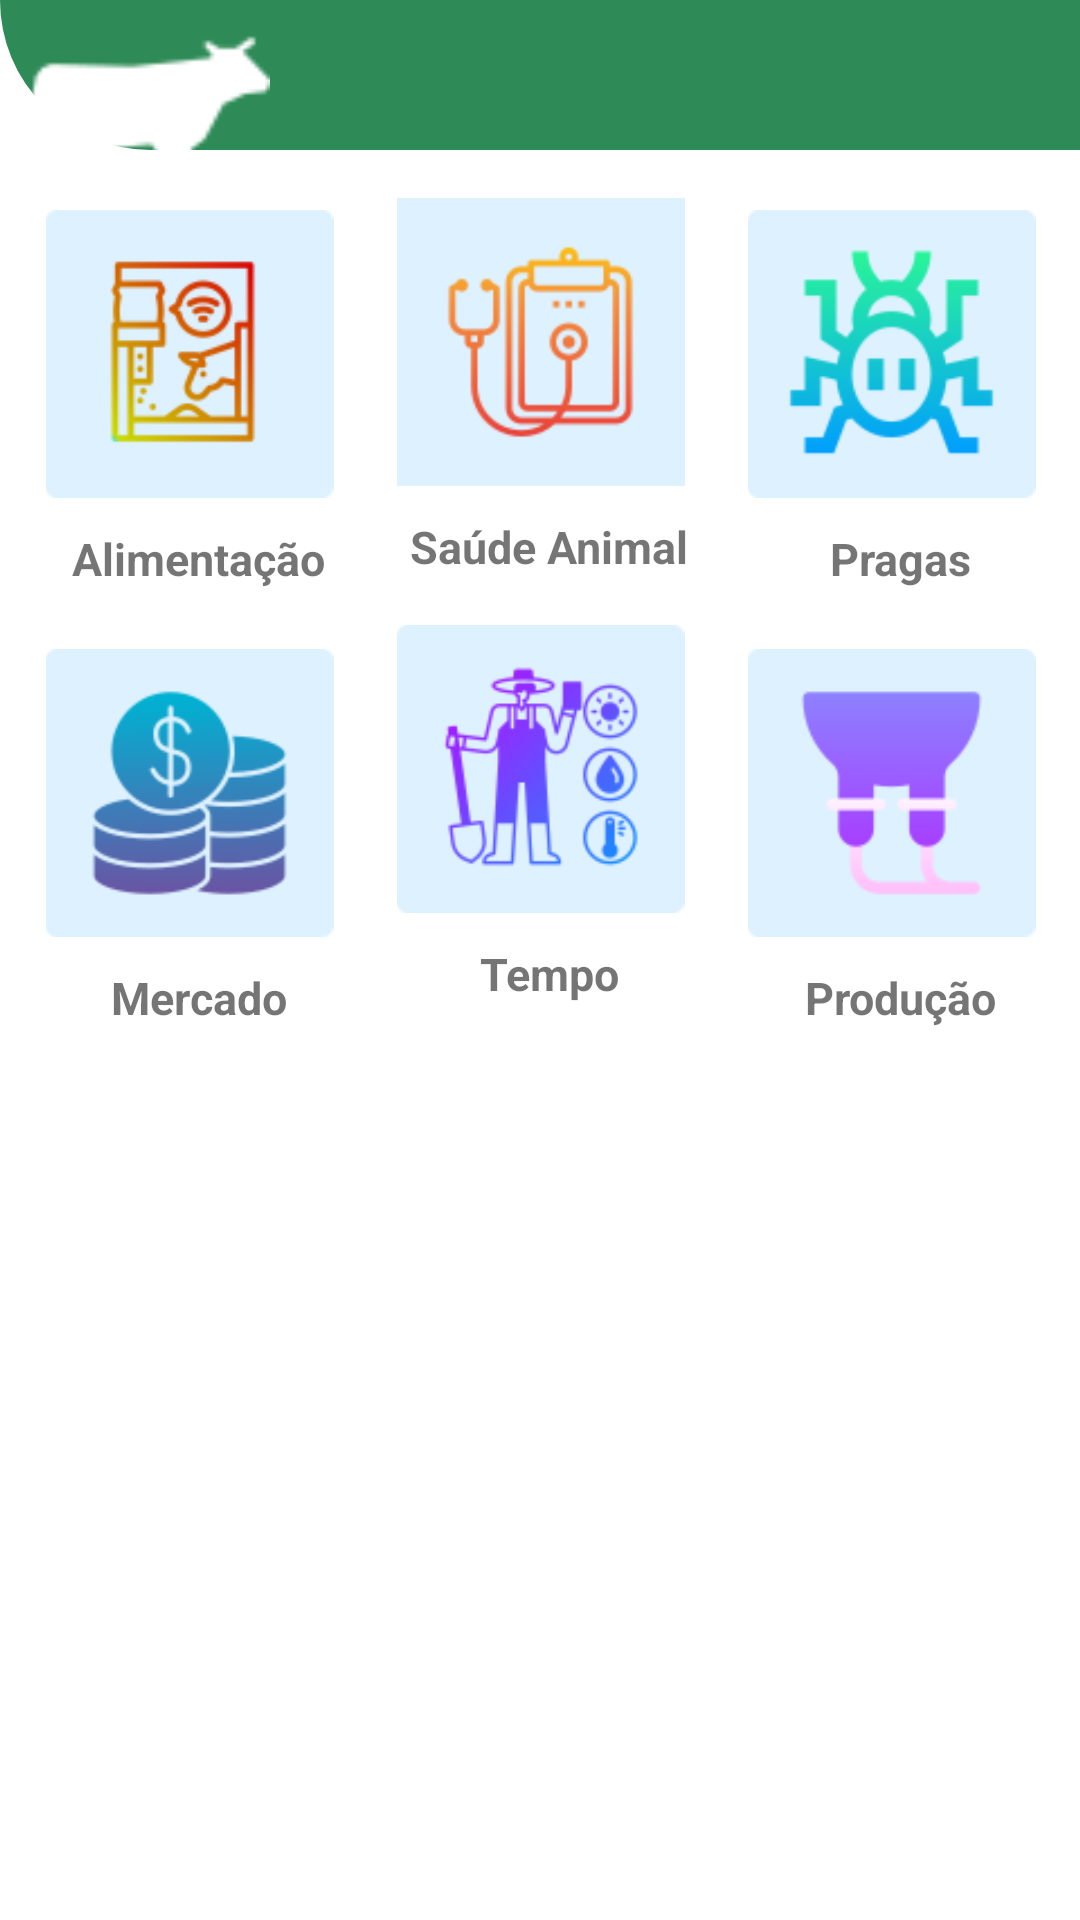

Named icons in this screenshot (1080px×1920px) and their centers, [x,y]:
vaca: [150,120]
